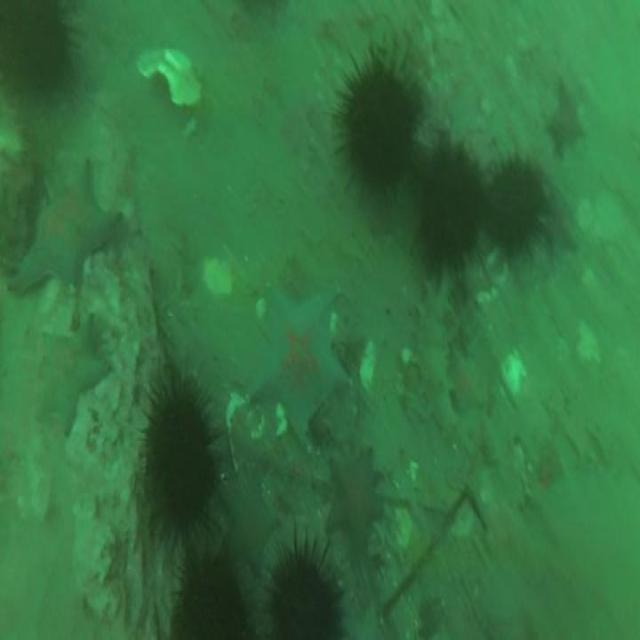echinus: (344, 60, 415, 190), (147, 390, 214, 520), (424, 141, 482, 262), (0, 0, 67, 85), (270, 554, 336, 640), (177, 559, 245, 640), (486, 155, 543, 251)
holothurian: (419, 267, 455, 428)
starfish: (250, 281, 346, 444), (9, 163, 120, 292), (33, 316, 111, 438), (328, 454, 381, 553), (548, 85, 586, 158), (546, 193, 578, 261), (447, 350, 483, 410)
